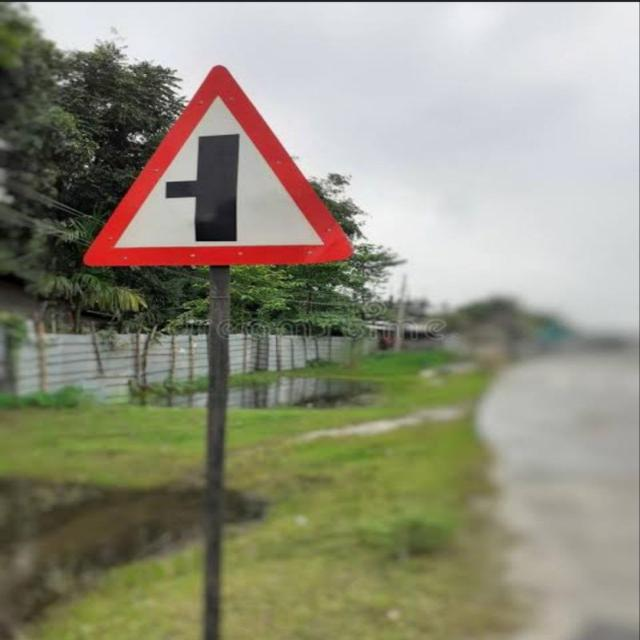Sideroad_toleft: (88, 63, 357, 269)
